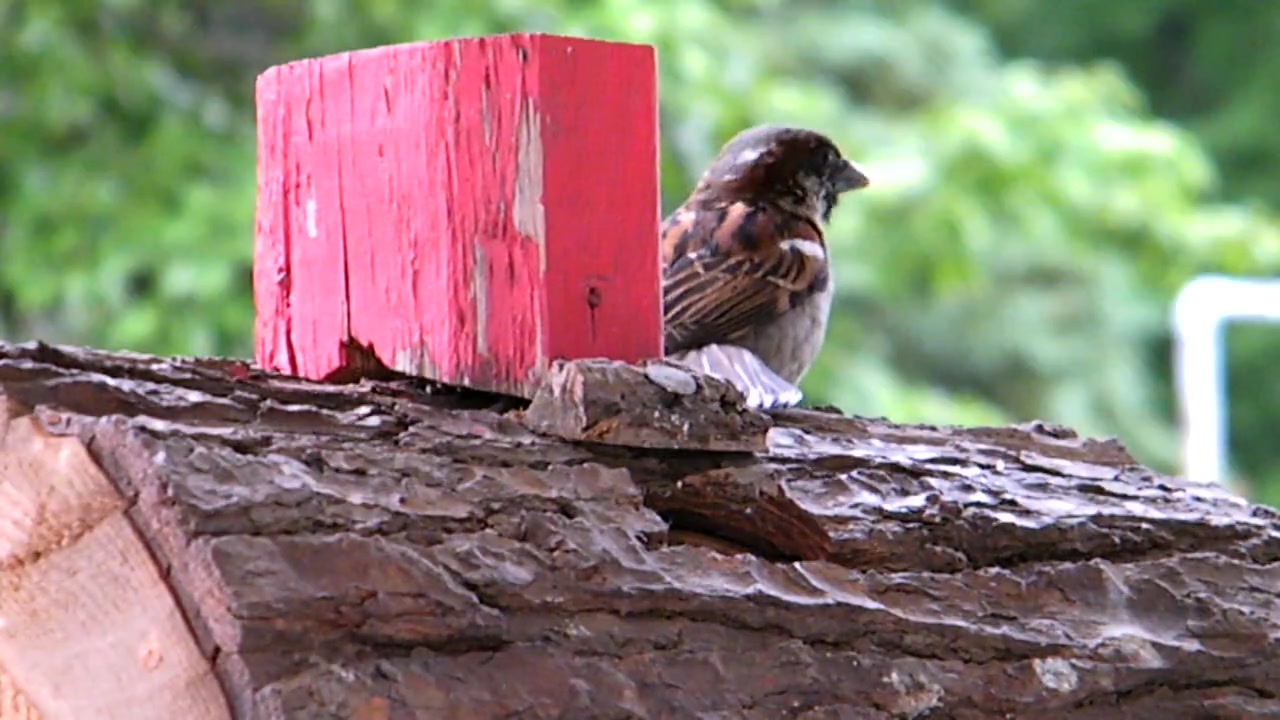bird: (663, 126, 872, 413)
